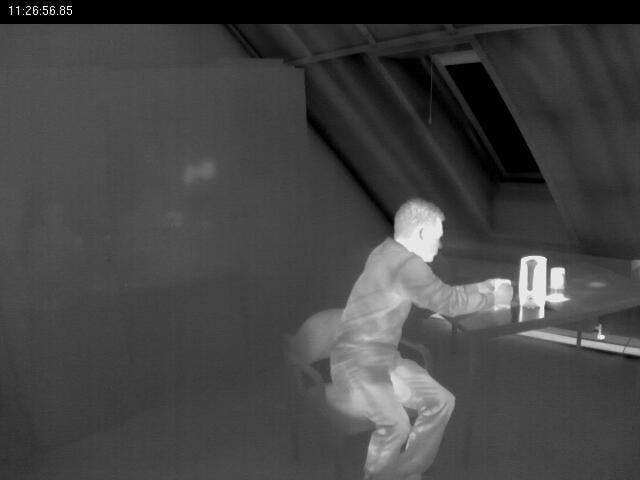person: (296, 192, 514, 480)
